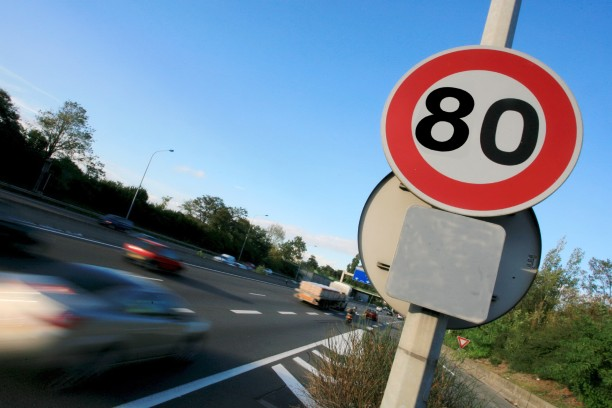Speed_limit_80km: (382, 46, 583, 216)
